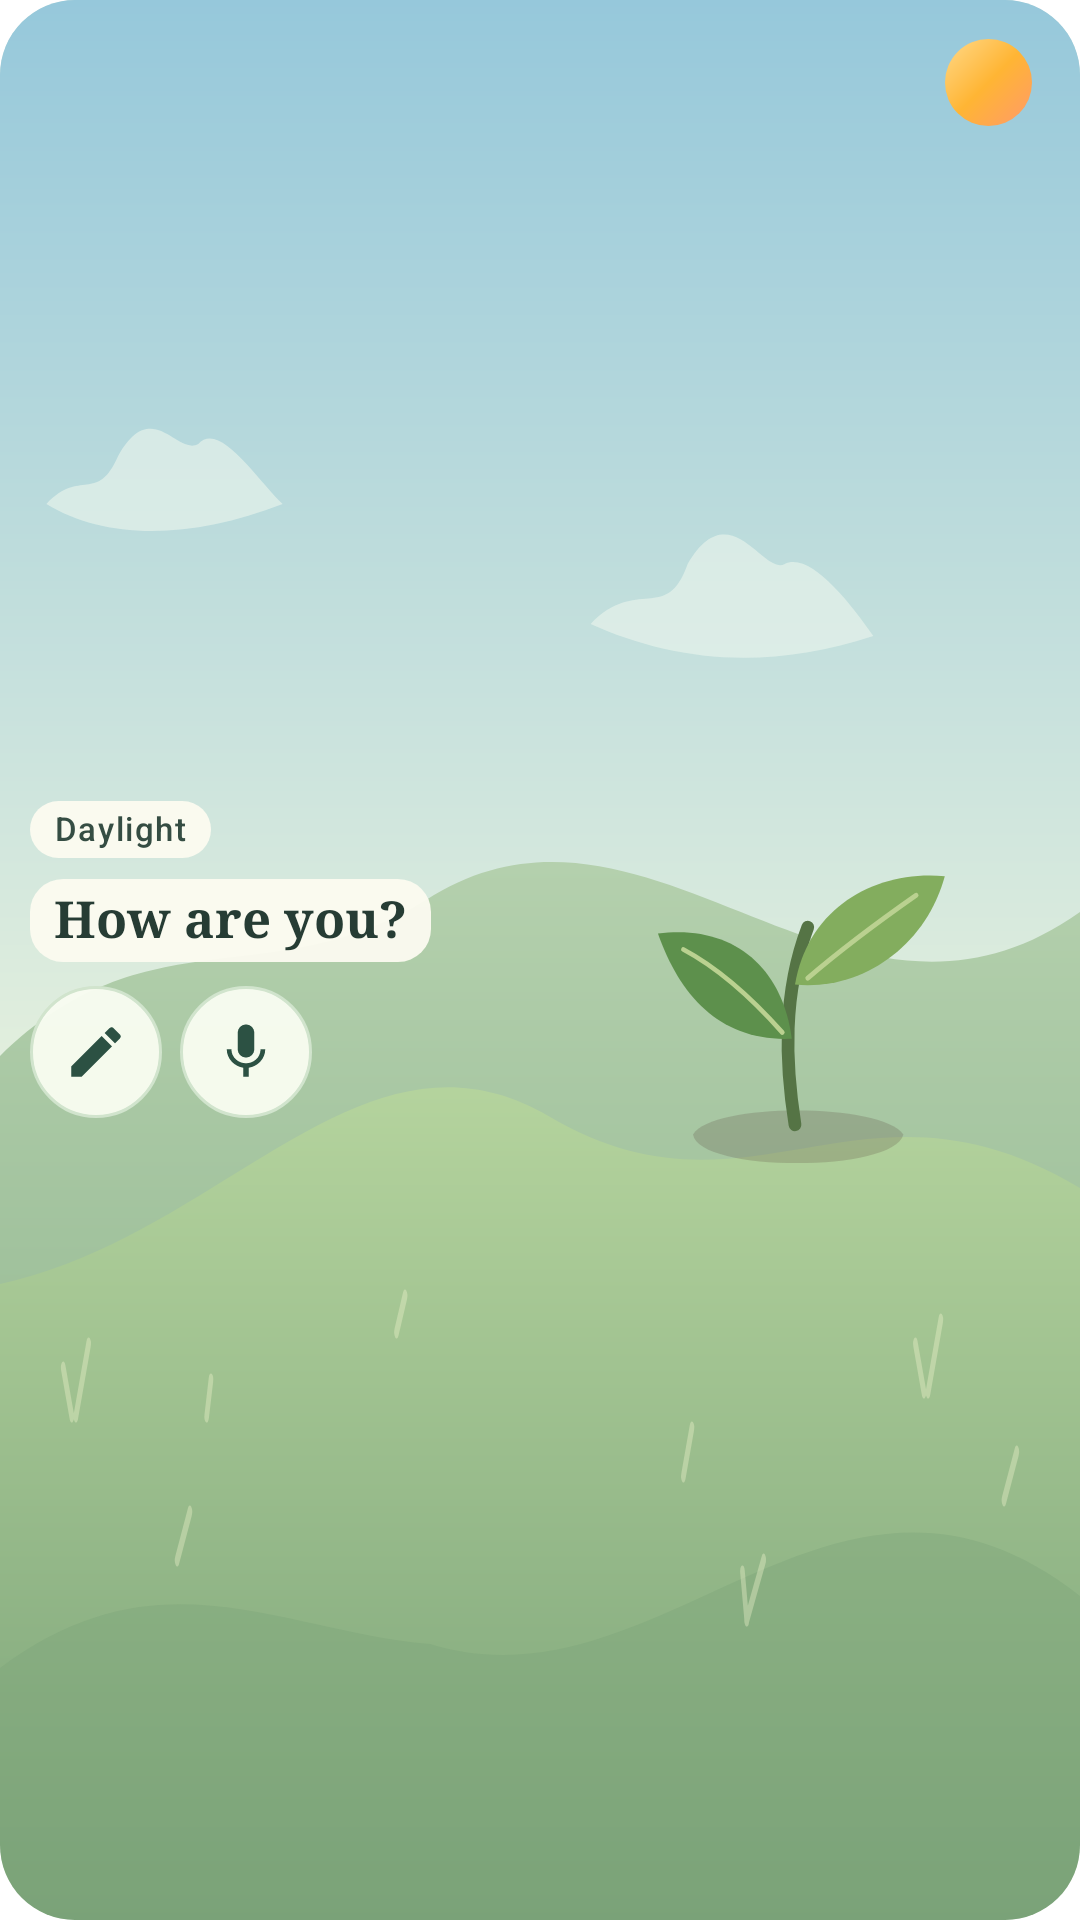

Icon bounding boxes for this 1080 x 1920 phone screenshot, format box=[x1, y1, x2, y2]:
Talk a check-in: box=[180, 986, 312, 1118]
Write a check-in: box=[30, 986, 162, 1118]
